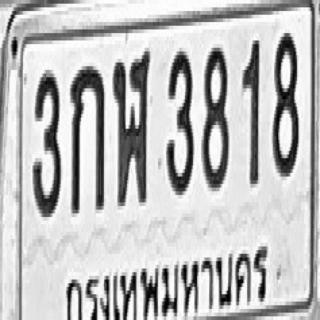A01: (70, 63, 104, 213)
A42: (112, 48, 150, 206)
N01: (242, 39, 259, 186)
N03: (32, 66, 61, 217), (165, 48, 194, 195)
N08: (202, 44, 229, 191), (272, 29, 298, 177)
P04: (64, 242, 272, 320)
